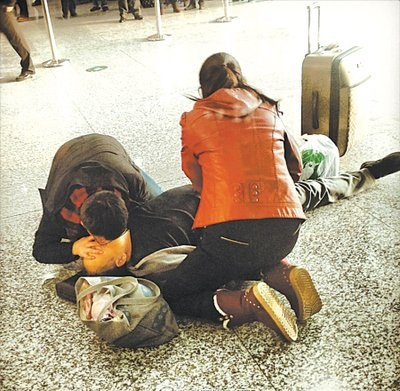falling: (116, 42, 366, 343)
